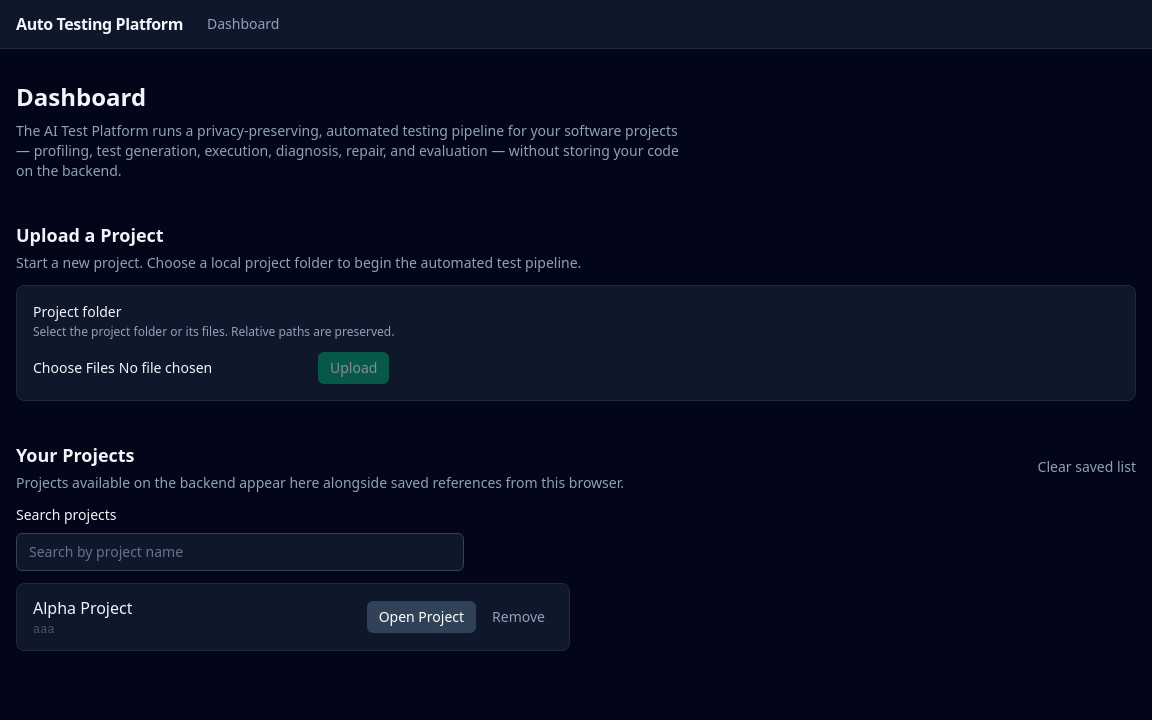
Test: DashboardPage › shows a no-results message when the search matches nothing
Type "zzz" into the search field labelled "Search projects" at (240, 552), box [16, 533, 464, 571]
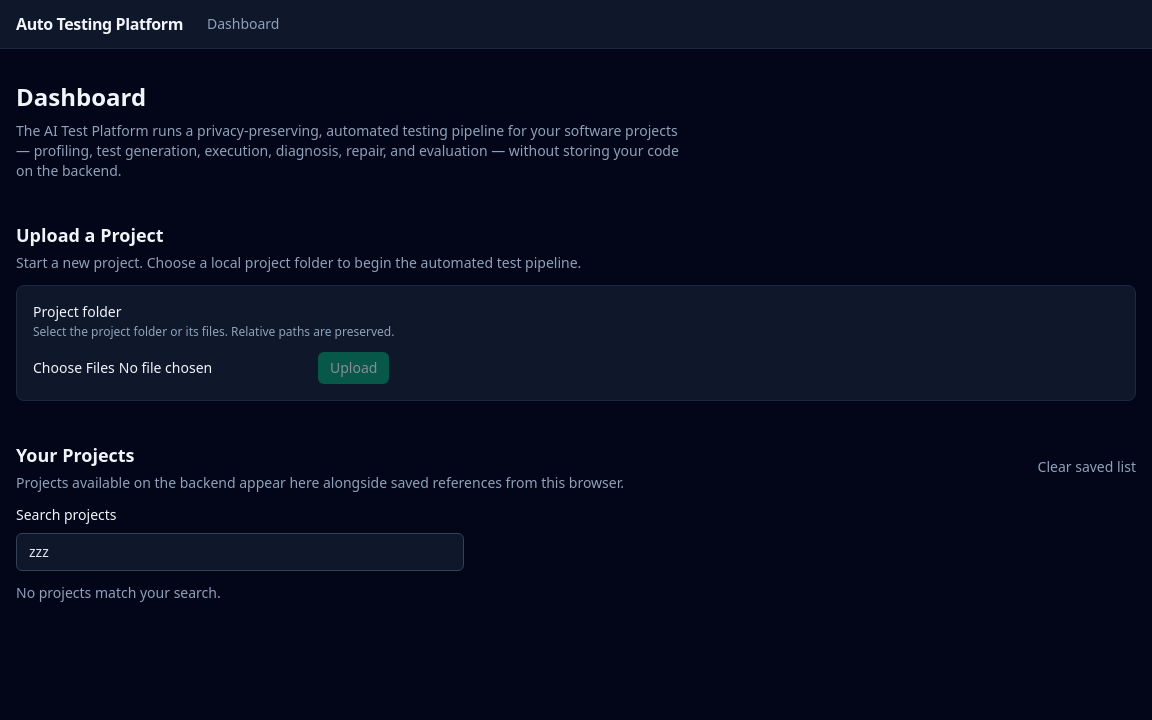
Expected: the text "Alpha Project" is gone
Expected: the text "No projects match your search." is shown, [16, 583, 221, 602]
